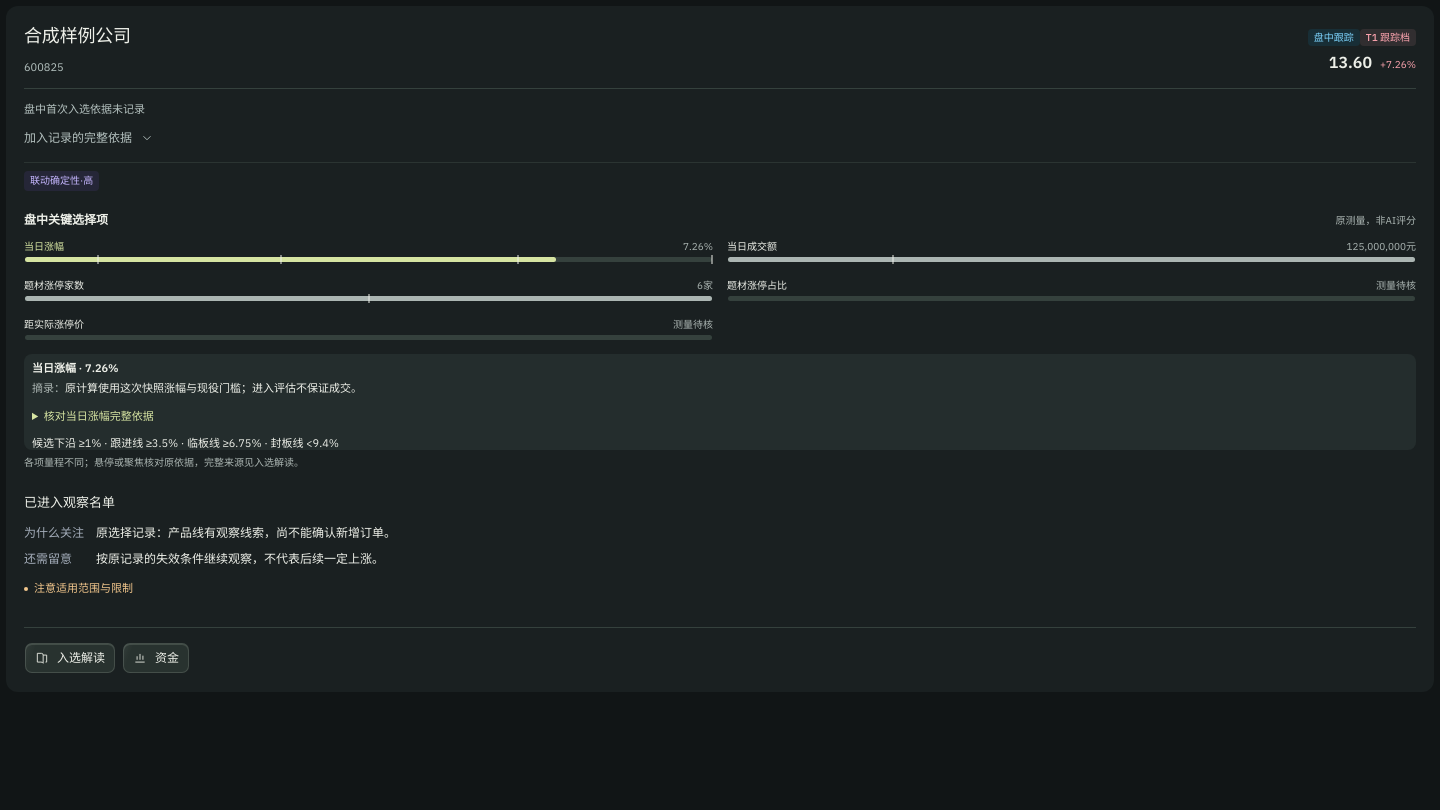
the selected main card exposes and links real measurements without opening a drawer or reading attribution
Expected: the element named "当前原测量依据" shows "进入评估不保证成交", [65,381,362,395]
Hover over the button with aria-label "核对当日成交额原测量" at [752, 246], box [727,233,1416,270]
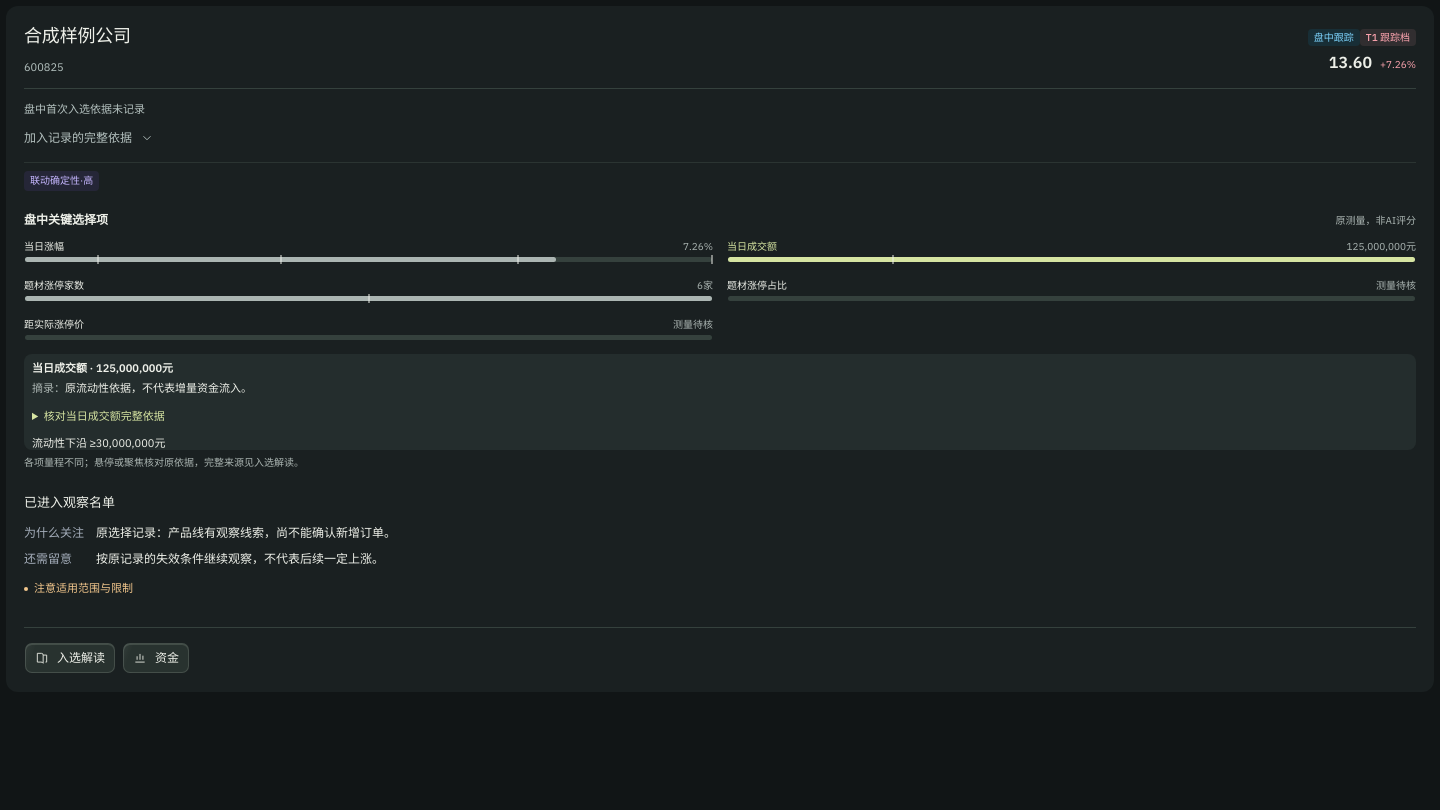
Expected: the element named "当前原测量依据" shows "不代表增量资金流入", [65,381,252,395]
Focus the button with aria-label "核对题材涨停家数原测量" at [54, 285], box [24,272,713,309]
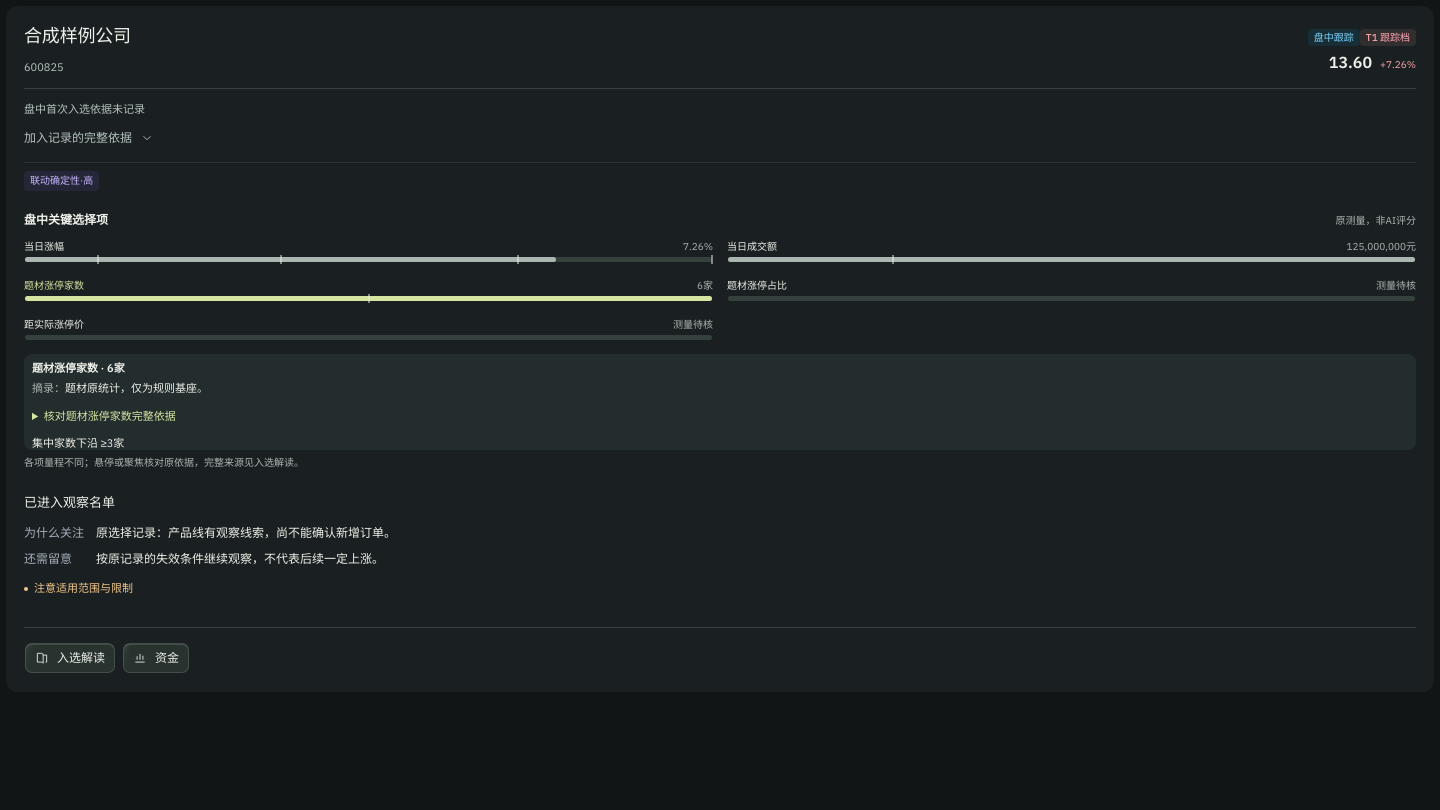
Expected: the element named "当前原测量依据" shows "题材原统计", [65,381,208,395]
